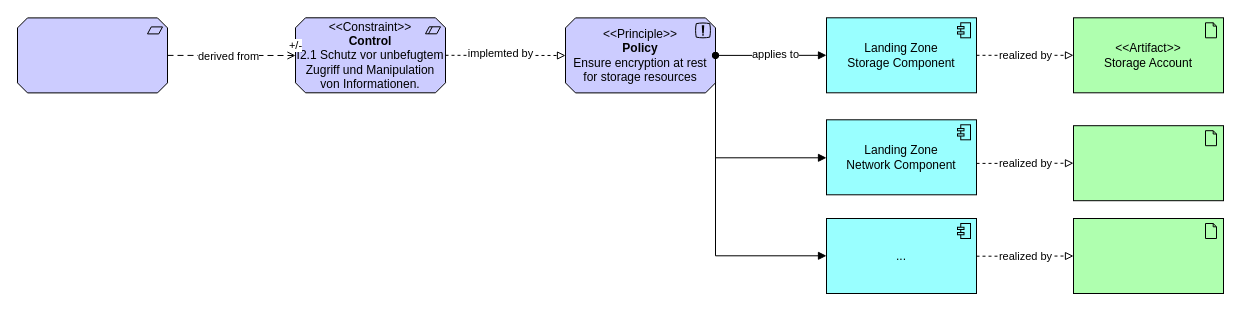
Some shapes in this 1241 by 311 pixel diagram are drawn without their labels. Each missing label, with the centre of its shape:
"<<Artifact>> ..." belongs at pixel 1148 256.
"<<Artifact>> Virtual Network" belongs at pixel 1148 163.
"<<Requirement>> Regulation Si001" belongs at pixel 92 55.
